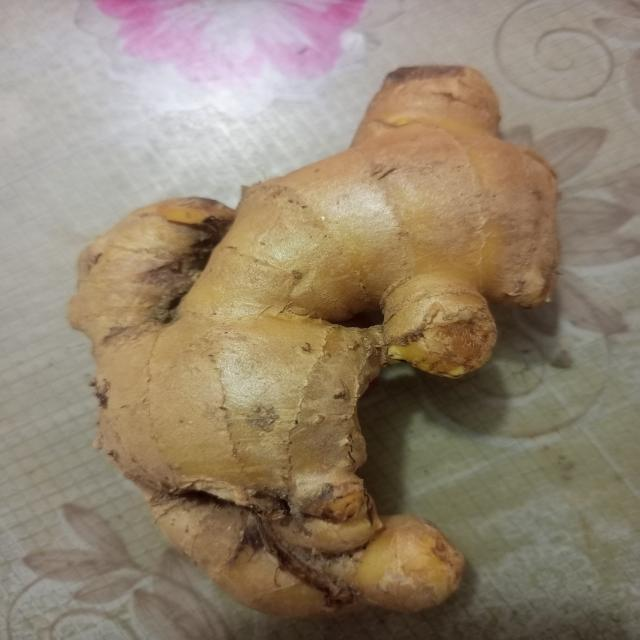ginger: (90, 70, 560, 608)
